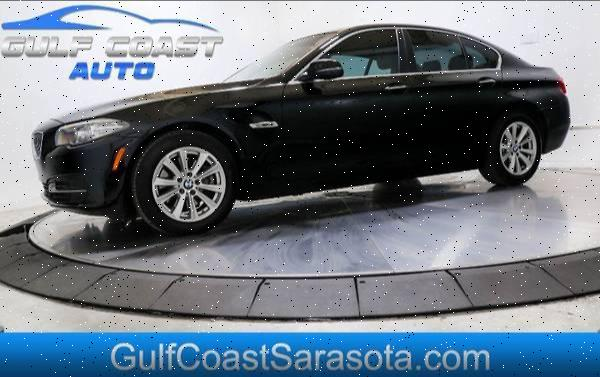Front_Bumper: (31, 131, 136, 219)
Front_Fender: (56, 85, 283, 201)
Front_Left_Door: (268, 75, 401, 199)
Front_Left_Window: (269, 26, 406, 85)
Front_Windshield: (225, 34, 339, 82)
Grille: (30, 130, 46, 162)
Hood: (35, 78, 280, 131)
Left_Headlight: (51, 122, 125, 154)
Rear_Fender: (498, 49, 569, 149)
Rear_Left_Door: (398, 69, 504, 173)
Rear_Left_Window: (399, 28, 501, 73)
Wheel: (127, 130, 232, 234), (475, 115, 542, 187)
